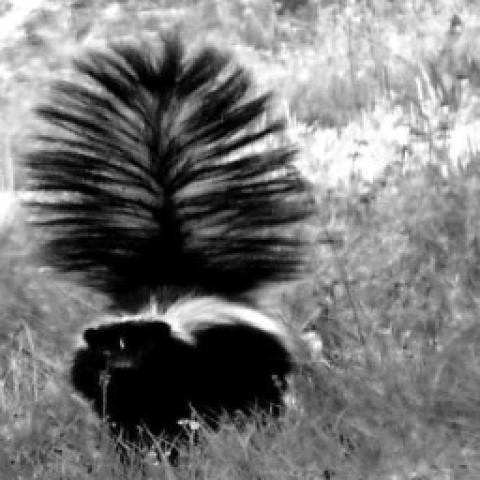small_animal: (11, 52, 324, 467)
